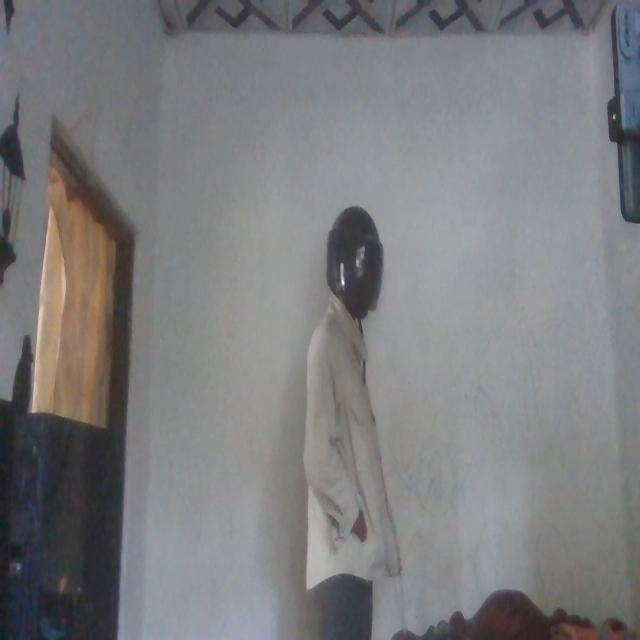Helmet_Wearer: (320, 204, 386, 319)
Jacket_Wearer: (300, 301, 400, 586)
Person: (296, 205, 410, 639)
